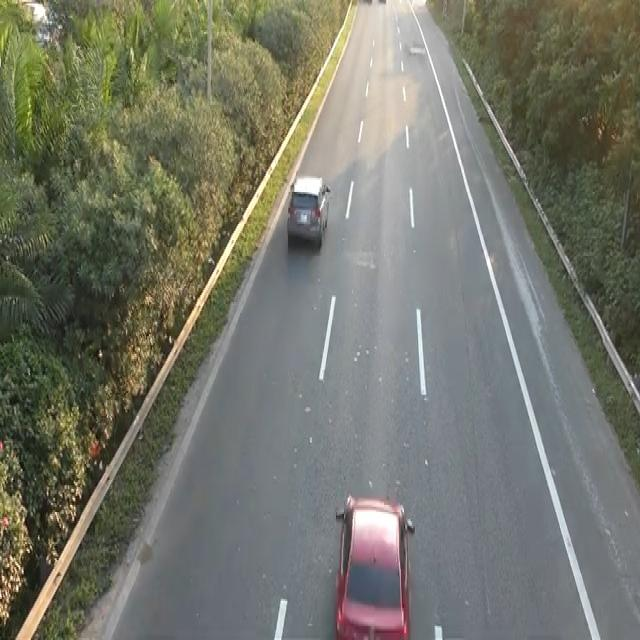bus: (331, 489, 416, 635)
car: (284, 170, 332, 250)
